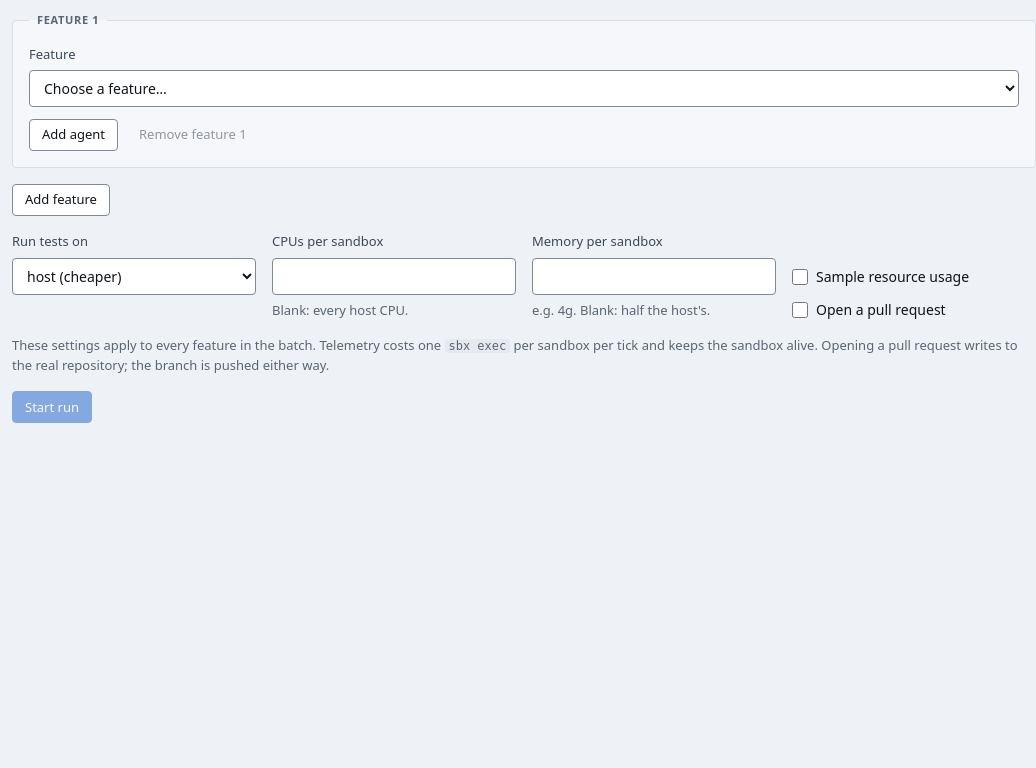
Scenario: RunLauncher › fills a row with the feature's own agents when it is chosen
The width and height of the screenshot is (1036, 768).
Select "add-separable-verbs" in the dropdown labelled "Feature". click: (524, 88)
box: [29,70,1019,107]
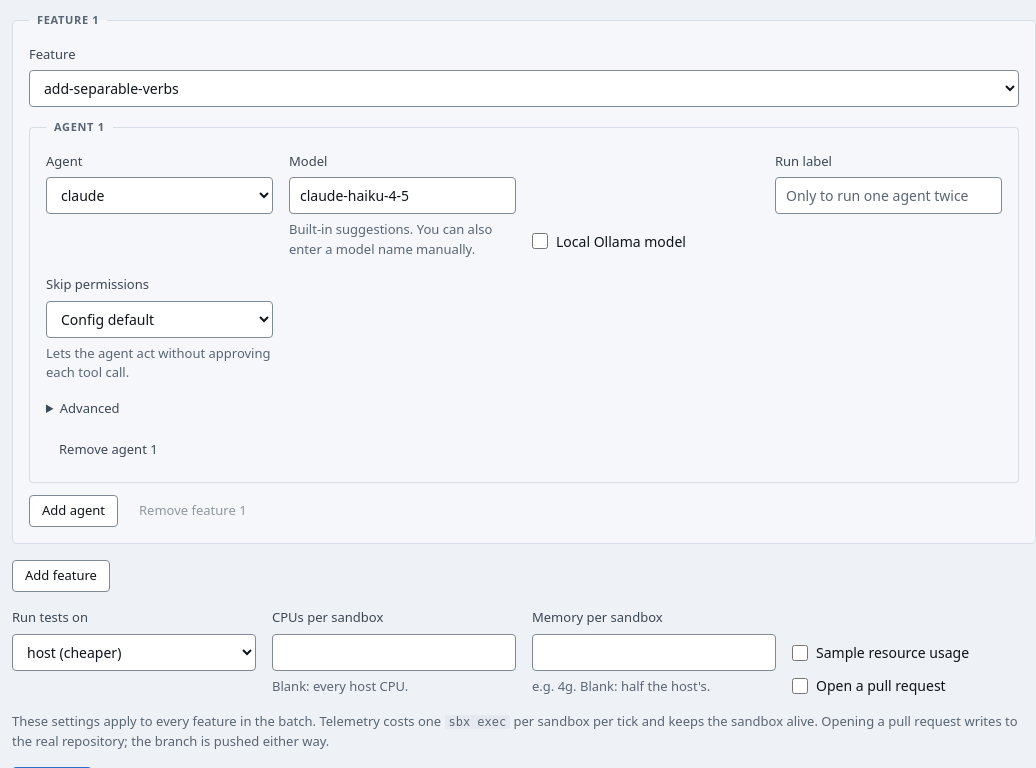
Result: the field labelled "Model" holds "claude-haiku-4-5" at [289,177,516,214]
